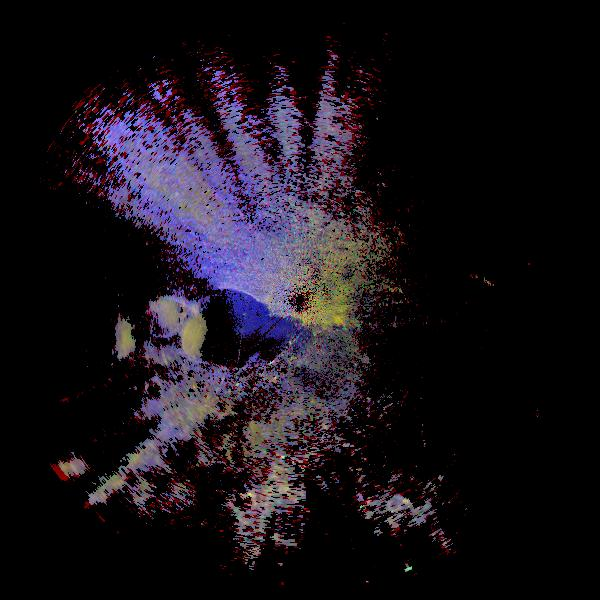roost: (48, 284, 156, 392), (125, 274, 230, 379)
